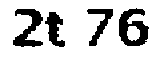2: (11, 6, 44, 51)
6: (119, 6, 153, 49)
7: (83, 3, 114, 49)
t: (44, 9, 71, 50)
